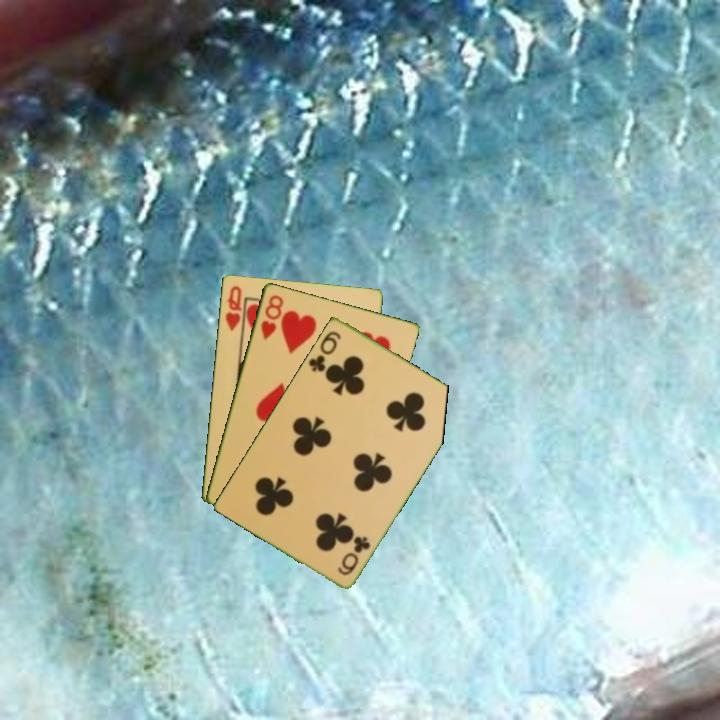6c: (305, 327, 344, 374), (334, 532, 373, 578)
8h: (257, 291, 286, 342)
Qh: (221, 282, 244, 334)
